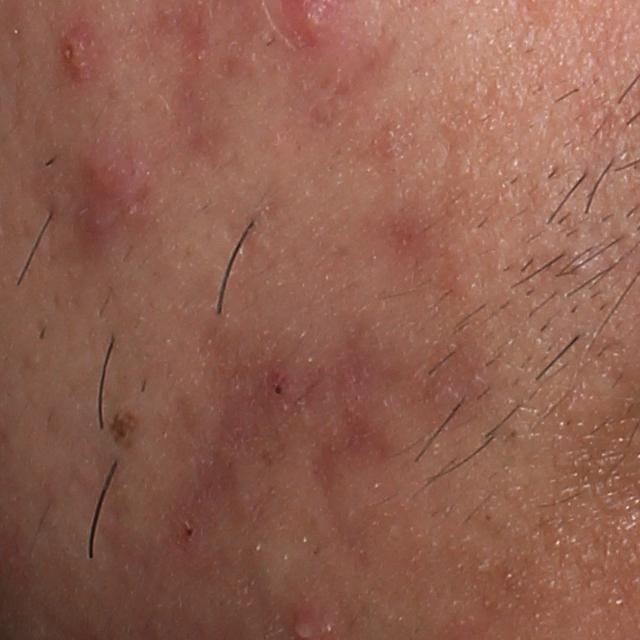comedo: (269, 378, 288, 400)
nevus: (98, 404, 142, 449)
papule: (80, 145, 136, 206), (60, 26, 97, 81)
